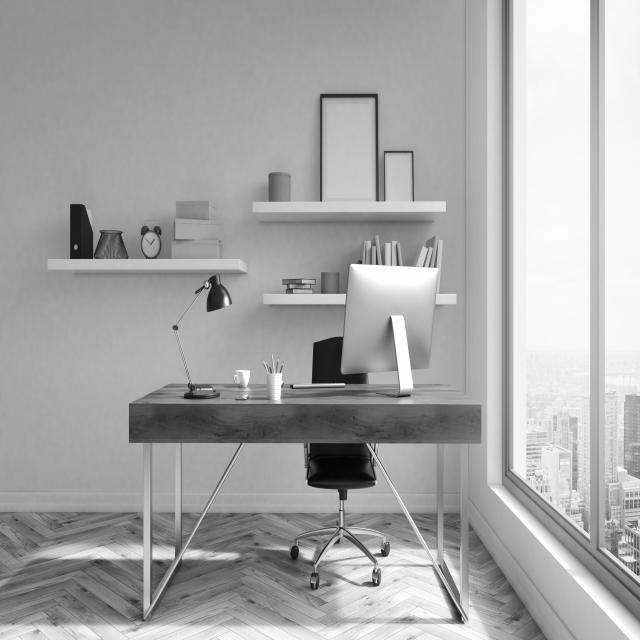table: (123, 348, 491, 494)
